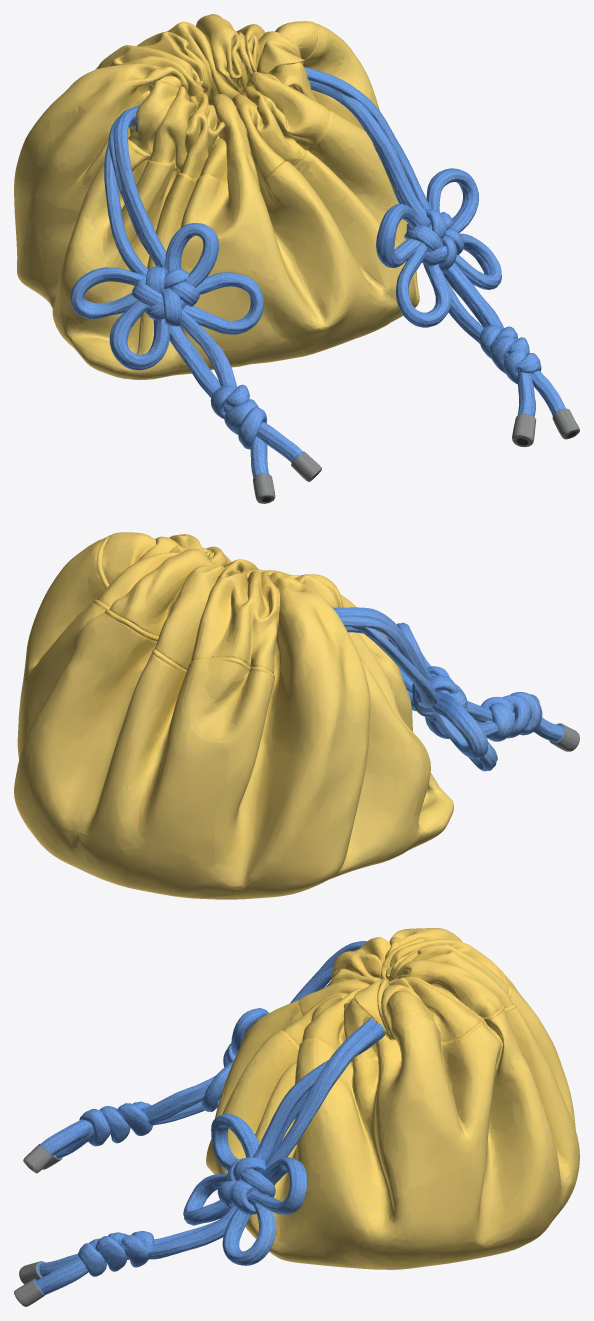
Rendered from pouch-closed.glb.
3 renders of one model, top to bottom at view 1: azimuth 30°, elevation 25°; view 2: azimuth 150°, elevation 25°; view 3: azimuth 270°, elevation 25°, orthographic. The views are drawn at different scales.
Parts seen in each view (by area): view 1: body, cord; view 2: body, cord; view 3: body, cord.
Part boxes in pixels (bbox=[...]): body: bbox=[14, 14, 419, 379]; cord: bbox=[70, 67, 579, 503]; body: bbox=[14, 532, 453, 899]; cord: bbox=[332, 606, 579, 771]; body: bbox=[206, 928, 579, 1269]; cord: bbox=[14, 941, 384, 1306].
Bounding box in the file's own units: 1.49 × 1.04 × 1.9.
Materials: 1 (1 with a texture image).
